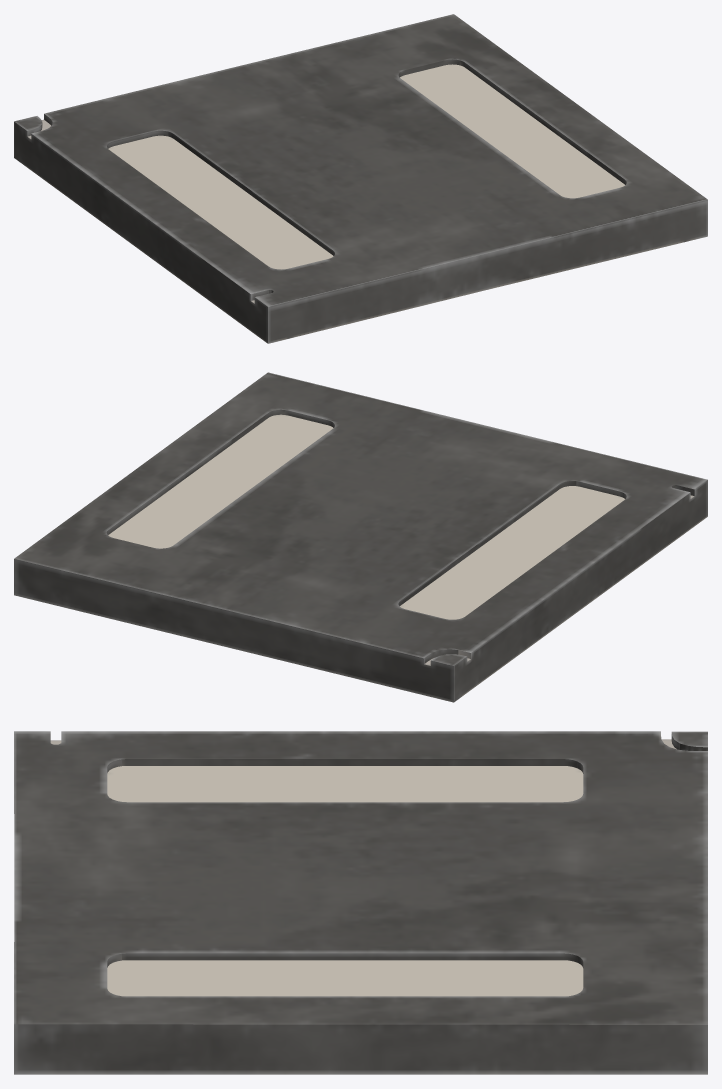
The model's file is FUT0510028.fbx.
3 renders of one model, top to bottom at view 1: azimuth 30°, elevation 25°; view 2: azimuth 150°, elevation 25°; view 3: azimuth 270°, elevation 25°, orthographic. The views are drawn at different scales.
Parts seen in each view (by area): view 1: smFUT0510028; view 2: smFUT0510028; view 3: smFUT0510028.
Boxes of the visible parts, left/top/right/bottom form: smFUT0510028: left=14, top=14, right=707, bottom=343; smFUT0510028: left=14, top=372, right=707, bottom=702; smFUT0510028: left=14, top=731, right=707, bottom=1074.
Bounding box in the file's own units: 168 × 13.49 × 168.
Materials: 1 (1 with a texture image).
